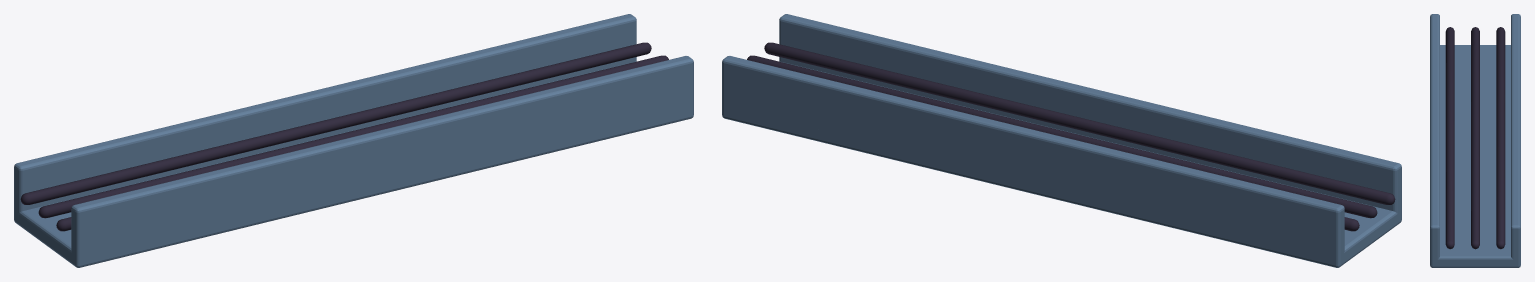
The model's file is cable_tray.glb.
The picture shows the model from 3 angles, left to right: view 1: azimuth 30°, elevation 25°; view 2: azimuth 150°, elevation 25°; view 3: azimuth 270°, elevation 25°; orthographic projection. The views are drawn at different scales.
Parts seen in each view (by area): view 1: Tray_lip.001, Tray_lip, Tray_bottom, Protected_cable, Protected_cable.001; view 2: Tray_lip, Tray_lip.001, Tray_bottom, Protected_cable.002, Protected_cable.001; view 3: Tray_bottom, Tray_lip, Tray_lip.001, Protected_cable, Protected_cable.002, Protected_cable.001.
Boxes of the visible parts, left/top/right/bottom form: Tray_lip.001: left=71, top=56, right=693, bottom=257; Tray_lip: left=14, top=14, right=636, bottom=214; Tray_bottom: left=14, top=61, right=693, bottom=267; Protected_cable: left=20, top=42, right=651, bottom=204; Protected_cable.001: left=38, top=55, right=668, bottom=218; Tray_lip: left=722, top=56, right=1344, bottom=256; Tray_lip.001: left=779, top=14, right=1401, bottom=213; Tray_bottom: left=722, top=61, right=1401, bottom=267; Protected_cable.002: left=764, top=42, right=1395, bottom=204; Protected_cable.001: left=747, top=55, right=1377, bottom=218; Tray_bottom: left=1430, top=45, right=1520, bottom=267; Tray_lip: left=1511, top=14, right=1520, bottom=260; Tray_lip.001: left=1430, top=14, right=1439, bottom=260; Protected_cable: left=1496, top=27, right=1505, bottom=249; Protected_cable.002: left=1445, top=27, right=1454, bottom=249; Protected_cable.001: left=1471, top=27, right=1479, bottom=249.
Bounding box in the file's own units: 1.02 × 0.0925 × 0.18.
